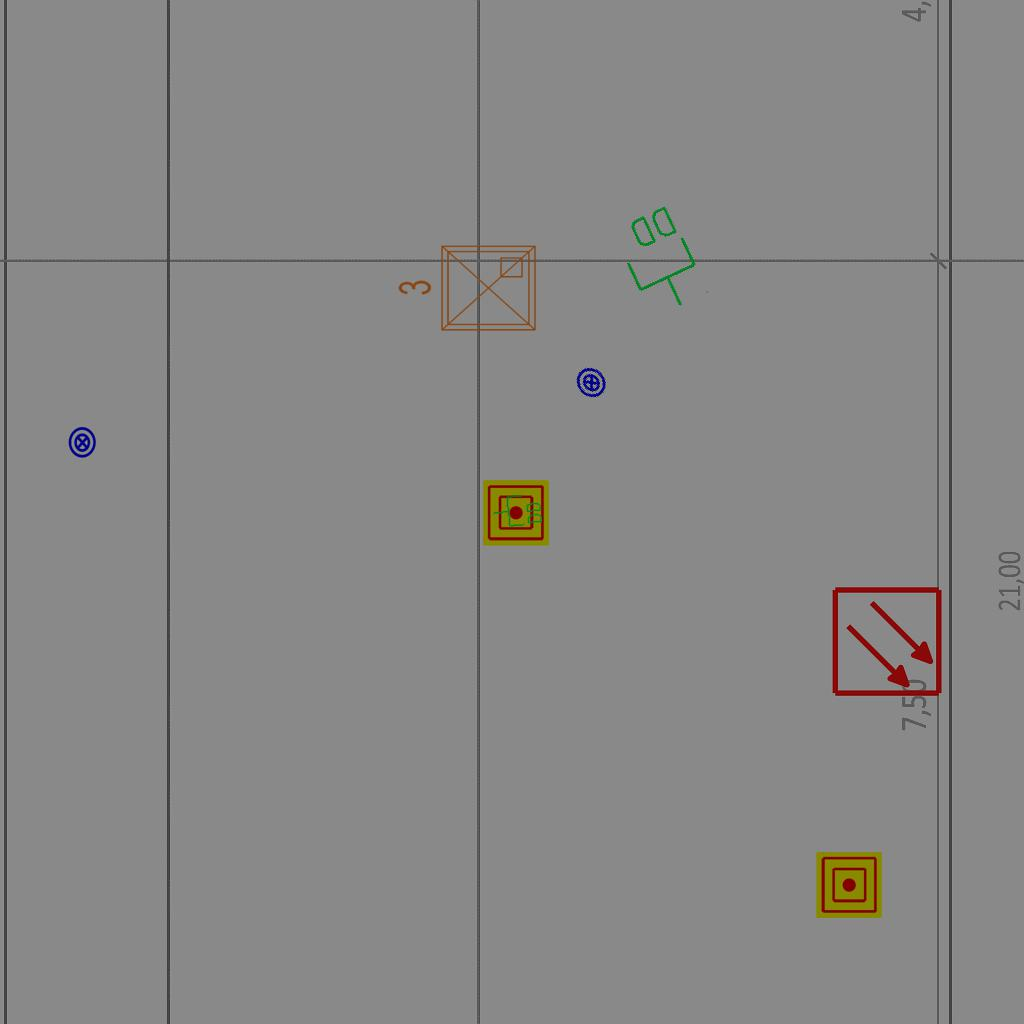Datenanschluss_zweifach: (607, 199, 714, 322), (490, 491, 545, 531)
Einbaudownlights_LED_Konferenzraeume: (393, 238, 543, 342)
NAM-Nichtautomatischer_Melder: (816, 852, 882, 918), (483, 480, 549, 546)
RMO_Rauchmelder_optischer: (831, 585, 944, 698)
Taster_beleuchtet: (568, 359, 615, 406), (66, 426, 99, 459)
